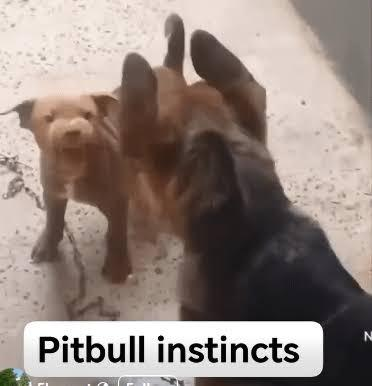adult_dog: (115, 28, 372, 382), (1, 13, 217, 286)
